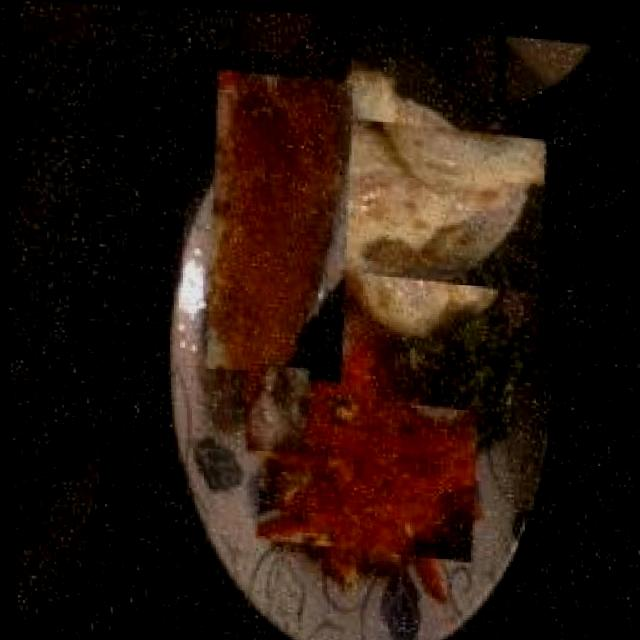carrot_eggs: (263, 369, 463, 574)
fried_chicken: (196, 65, 362, 383)
fried_eggs: (312, 91, 530, 308)
rice: (240, 361, 310, 456)
